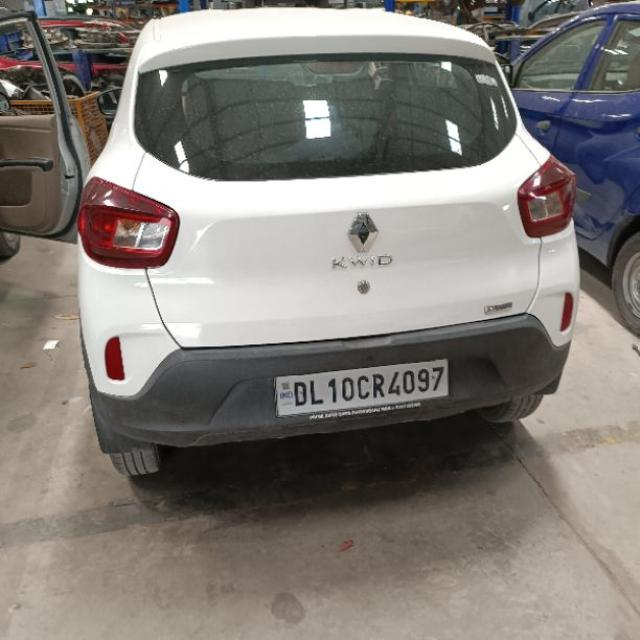license_plate: (272, 357, 451, 418)
